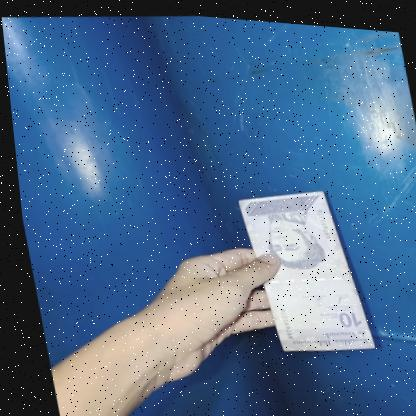ten-front-vef: (233, 179, 371, 355)
